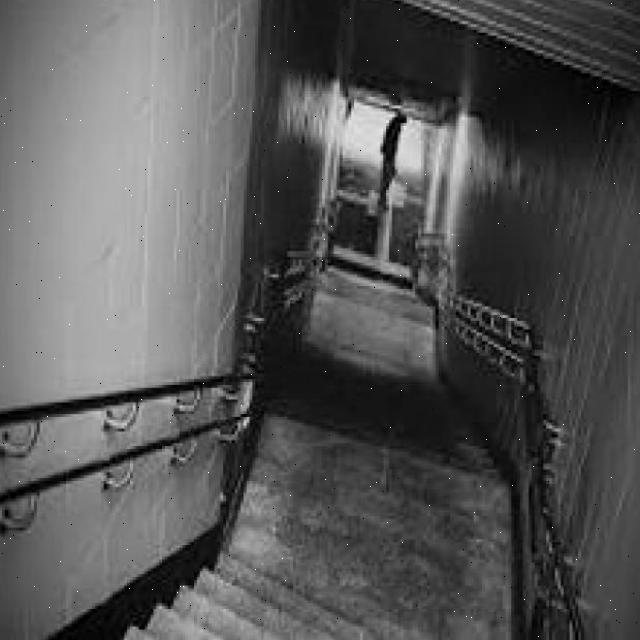stair: (273, 339, 488, 504)
